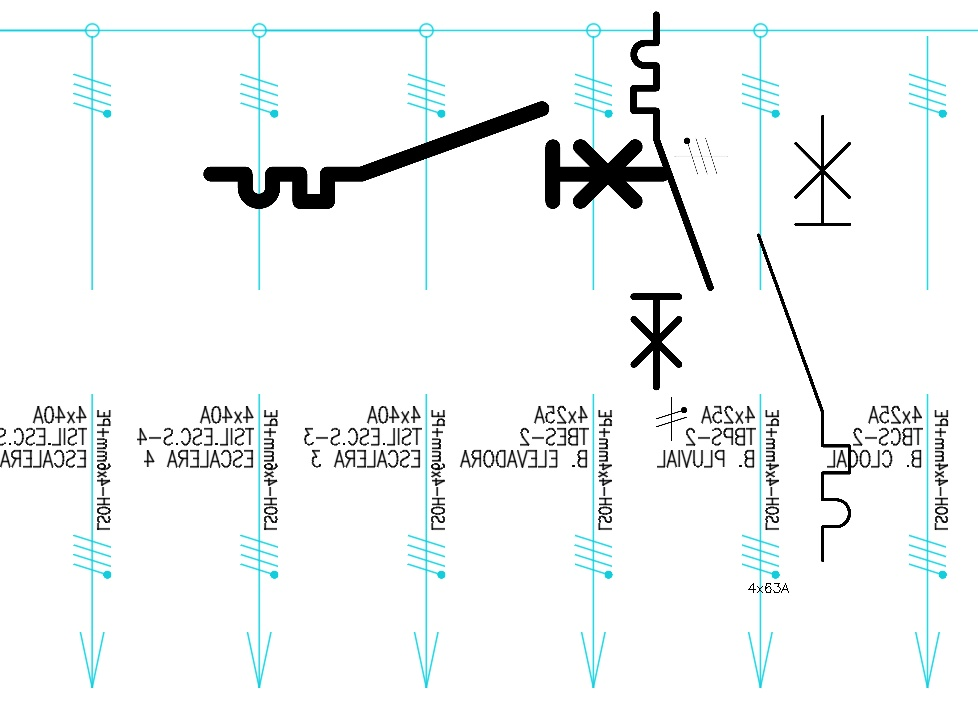interruptor_termomagnetico: (199, 97, 674, 213), (747, 105, 861, 572), (624, 5, 720, 397)
